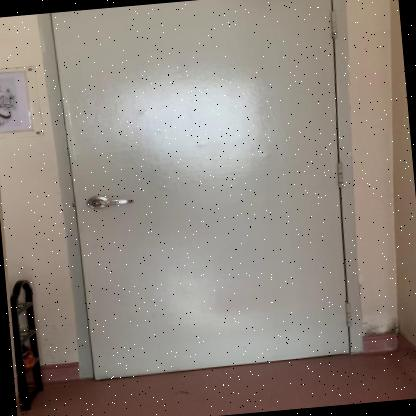door: (41, 0, 385, 391)
